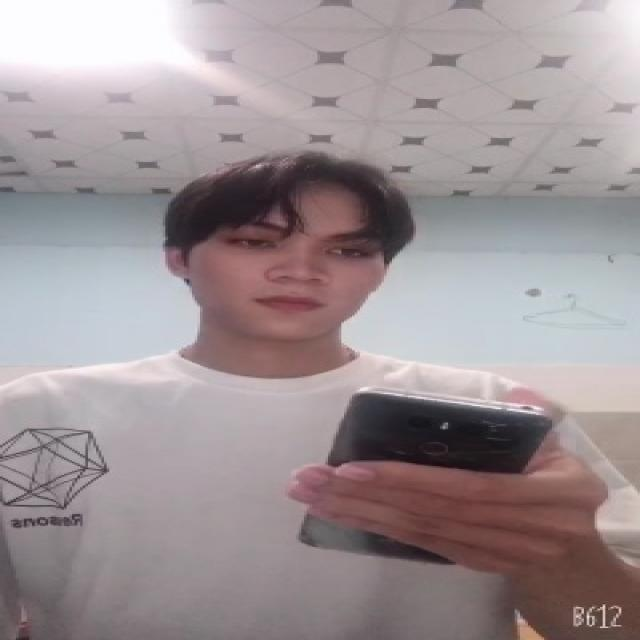Phone: (296, 386, 555, 572)
